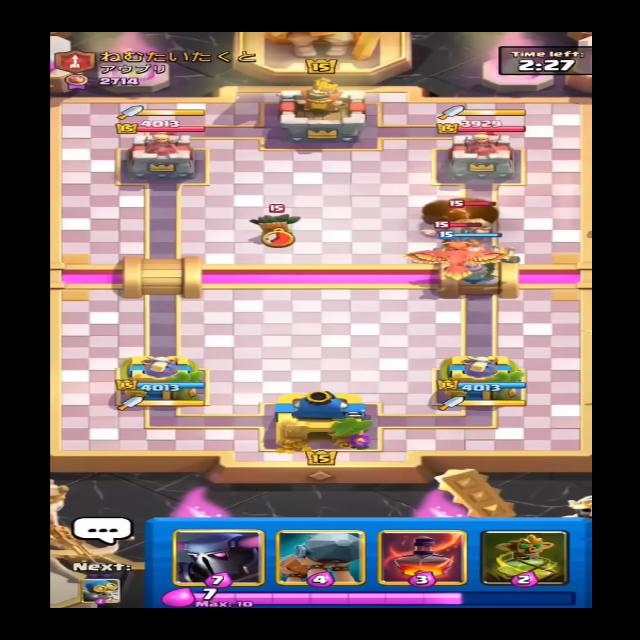dart-goblin: (250, 201, 313, 245)
prince: (448, 208, 505, 254)
